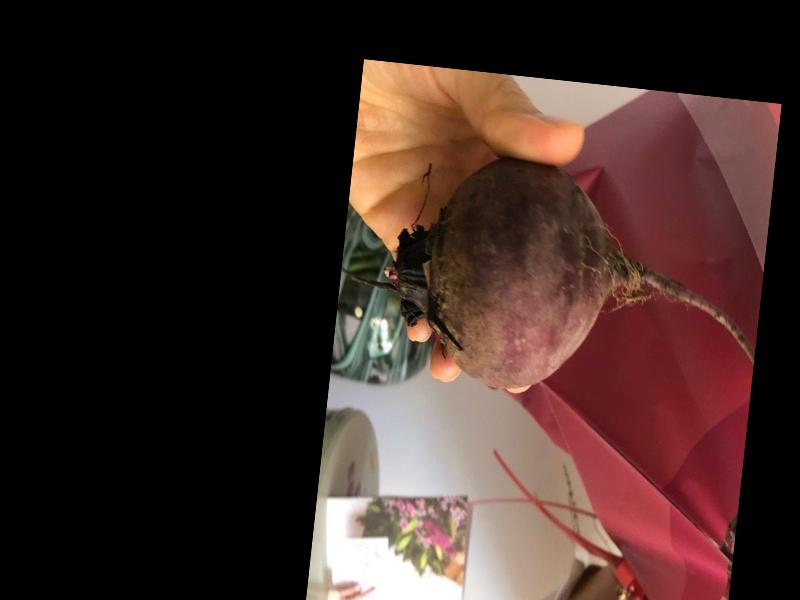Beet: (333, 141, 771, 415)
